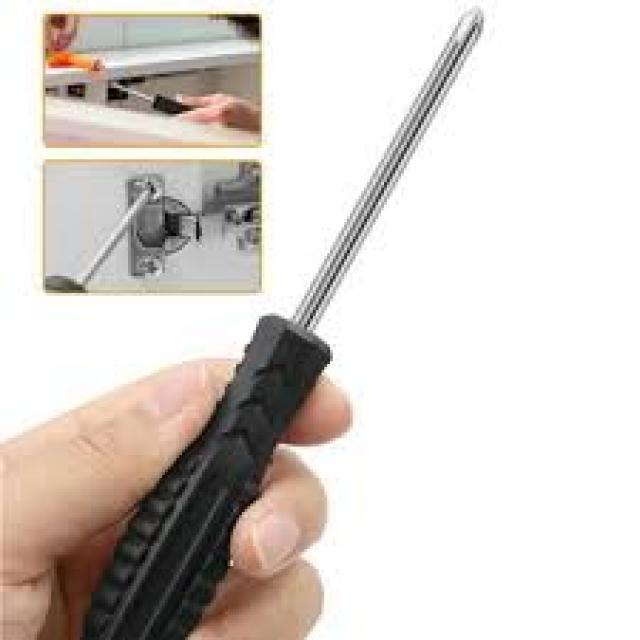screwdriver: (82, 3, 484, 640), (42, 179, 162, 302), (99, 70, 218, 124)
